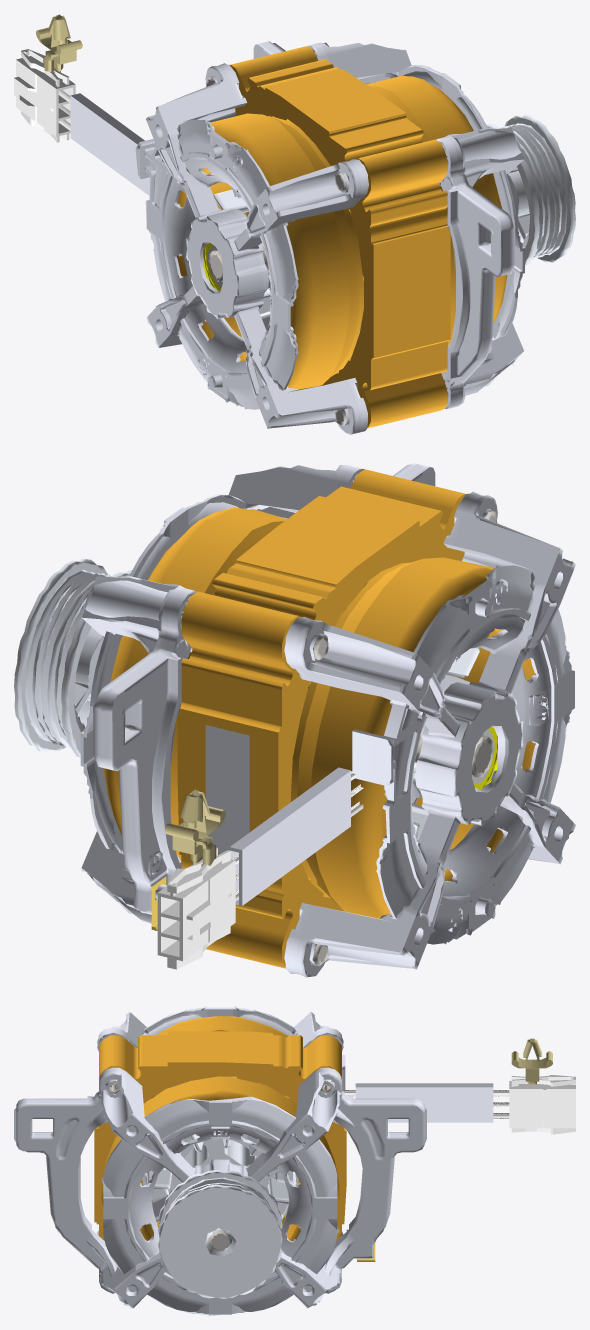
File: teste2.gltf
3 views of the same model, one above another, from view 1: azimuth 30°, elevation 25°; view 2: azimuth 150°, elevation 25°; view 3: azimuth 270°, elevation 25° (orthographic). The views are drawn at different scales.
Visible parts, largest first — view 1: 10003056676swp000, 10004809861swp000, 10002735810swp000, 10003175828swp000, 10005072841swp000, 10005072860swp000, 10005072848swp000, 10001827052swp00000; view 2: 10003056676swp000, 10004809861swp000, 10002735810swp000, 10003175828swp000, 10005072841swp000, 10005072860swp000, 10005072863swp000, 10005072848swp000, 10001827052swp00000, 10002893233swp000; view 3: 10002735810swp000, 10003056676swp000, 10003175828swp000, 10005072841swp000, 10005072860swp000, 10001827052swp00000, 10004809861swp000, 10005072848swp000.
Boxes of the visible parts, x1,y1,x2,y2 form: 10003056676swp000: (177, 46, 507, 428); 10004809861swp000: (135, 63, 368, 434); 10002735810swp000: (253, 41, 524, 409); 10003175828swp000: (486, 114, 575, 266); 10005072841swp000: (70, 93, 149, 195); 10005072860swp000: (14, 49, 75, 142); 10005072848swp000: (36, 14, 82, 73); 10001827052swp00000: (213, 187, 270, 330); 10003056676swp000: (104, 469, 534, 968); 10004809861swp000: (284, 491, 575, 977); 10002735810swp000: (80, 463, 435, 924); 10003175828swp000: (14, 558, 131, 757); 10005072841swp000: (229, 767, 350, 905); 10005072860swp000: (157, 847, 235, 969); 10005072863swp000: (205, 725, 249, 853); 10005072848swp000: (165, 789, 225, 867); 10001827052swp00000: (411, 647, 480, 841); 10002893233swp000: (415, 725, 493, 777); 10002735810swp000: (14, 1067, 426, 1315); 10003056676swp000: (94, 1016, 346, 1241); 10003175828swp000: (158, 1170, 282, 1298); 10005072841swp000: (355, 1083, 493, 1122); 10005072860swp000: (509, 1075, 575, 1134); 10001827052swp00000: (142, 1076, 298, 1221); 10004809861swp000: (97, 1006, 345, 1235); 10005072848swp000: (511, 1038, 552, 1084).
Bounding box in the file's own units: 0.1364 × 0.11 × 0.245.
